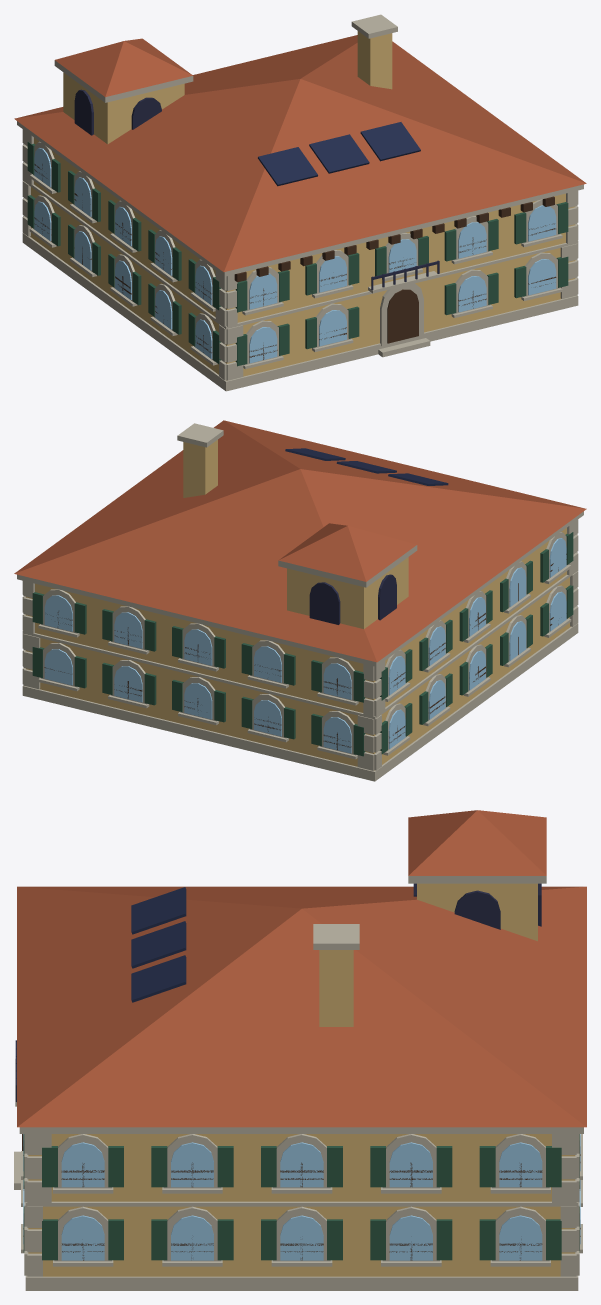
File: house-2x2-2f-tuscan-a-solar.glb
3 views of the same model, one above another, from view 1: azimuth 30°, elevation 25°; view 2: azimuth 150°, elevation 25°; view 3: azimuth 270°, elevation 25° (orthographic). The views are drawn at different scales.
Visible parts, largest first — view 1: house-2x2-2f-tuscan-a-solar; view 2: house-2x2-2f-tuscan-a-solar; view 3: house-2x2-2f-tuscan-a-solar.
Part boxes in pixels (<box>): house-2x2-2f-tuscan-a-solar: <box>14,14,586,391</box>; house-2x2-2f-tuscan-a-solar: <box>14,420,586,781</box>; house-2x2-2f-tuscan-a-solar: <box>14,810,586,1290</box>.
Size of the model in its own units: 1.98 by 1.14 by 1.99.
Materials: 1 (1 with a texture image).
